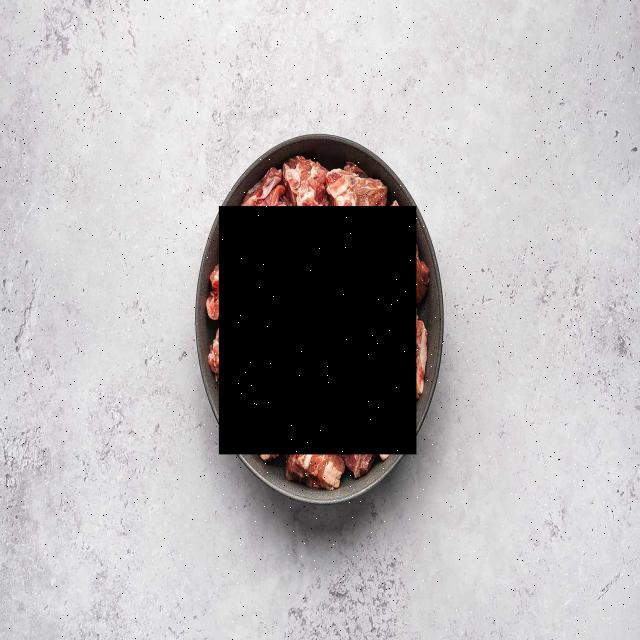Mutton: (219, 206, 417, 454)
